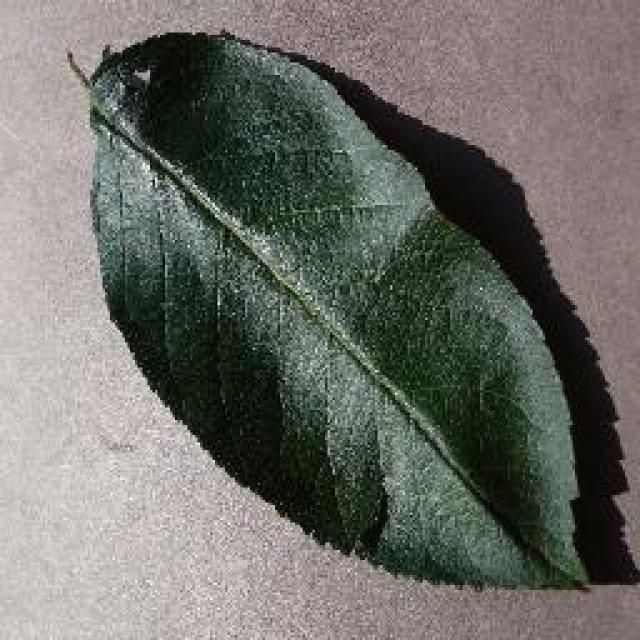apple scab disease: (63, 25, 625, 590)
